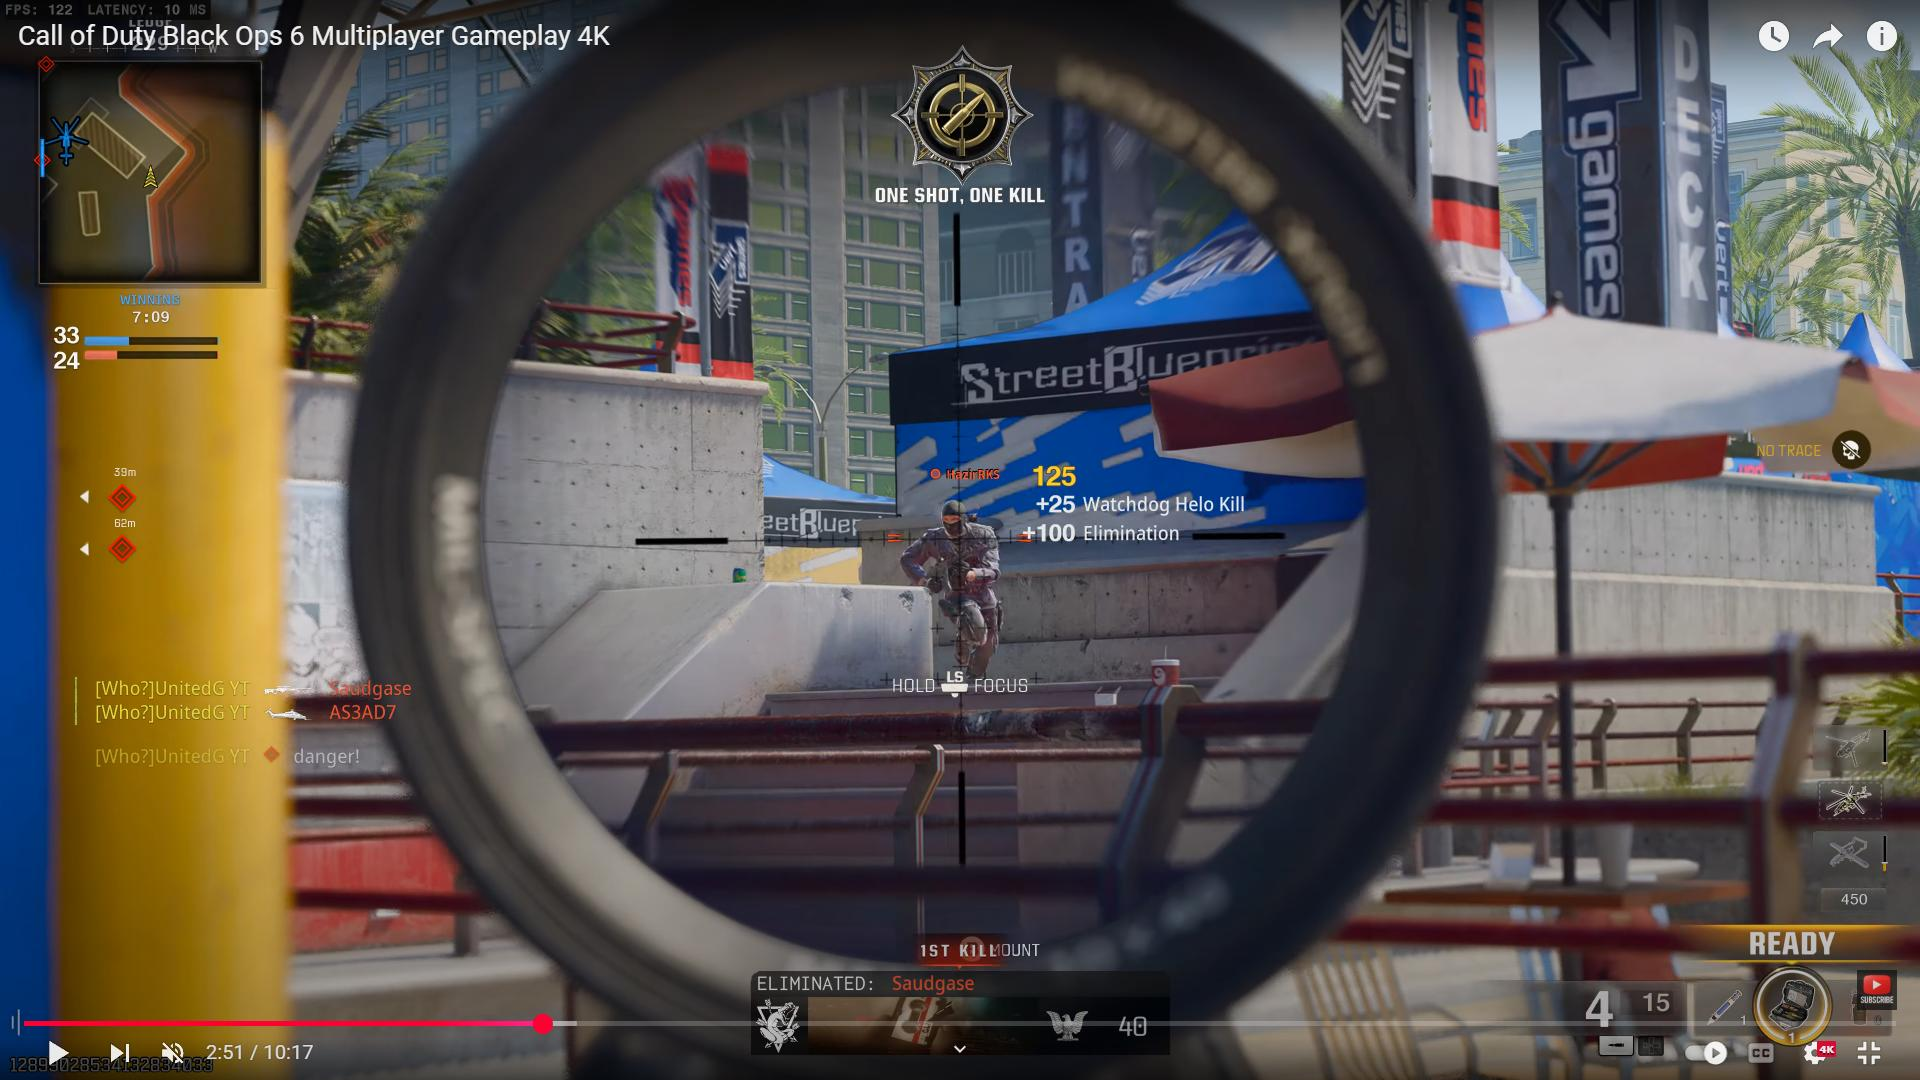Enemy: (897, 509, 1007, 673)
